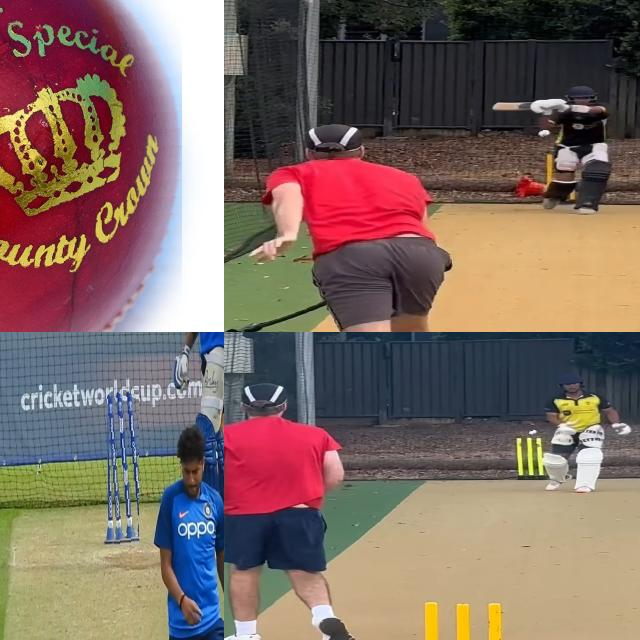Cricket ball: (0, 0, 182, 332), (537, 130, 552, 138), (527, 429, 539, 436)
Stumps: (105, 390, 139, 545), (414, 602, 521, 640), (514, 437, 544, 479)
